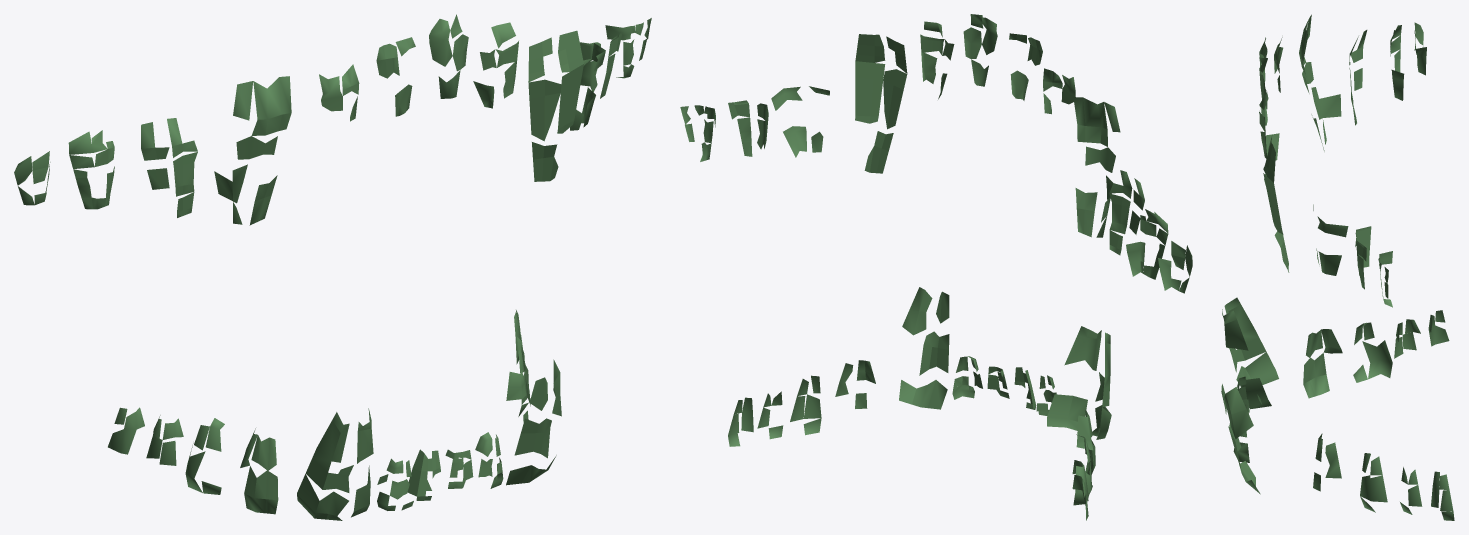
Rendered from 3D_Model_Dirt.fbx.
3 renders of one model, left to right at view 1: azimuth 30°, elevation 25°; view 2: azimuth 150°, elevation 25°; view 3: azimuth 270°, elevation 25°, orthographic. The views are drawn at different scales.
Visible parts, largest first — view 1: polySurface669, polySurface752; view 2: polySurface576; view 3: polySurface909, polySurface527, polySurface638, polySurface530, polySurface595, polySurface683, polySurface761, polySurface594, polySurface533, polySurface526, polySurface760, polySurface735.
Boxes of the visible parts, <box> form: polySurface669: <box>429,19,452,66</box>; polySurface752: <box>236,136,277,159</box>; polySurface576: <box>855,78,873,116</box>; polySurface909: <box>1225,319,1248,350</box>; polySurface527: <box>1245,352,1275,378</box>; polySurface638: <box>1319,94,1341,117</box>; polySurface530: <box>1241,378,1267,402</box>; polySurface595: <box>1231,409,1253,438</box>; polySurface683: <box>1370,475,1387,502</box>; polySurface761: <box>1321,329,1342,353</box>; polySurface594: <box>1225,387,1246,414</box>; polySurface533: <box>1241,337,1266,360</box>; polySurface526: <box>1228,304,1253,332</box>; polySurface760: <box>1310,374,1329,396</box>; polySurface735: <box>1391,69,1404,100</box>.
Size of the model in its own units: 0.7369 by 0.5481 by 0.2854.
